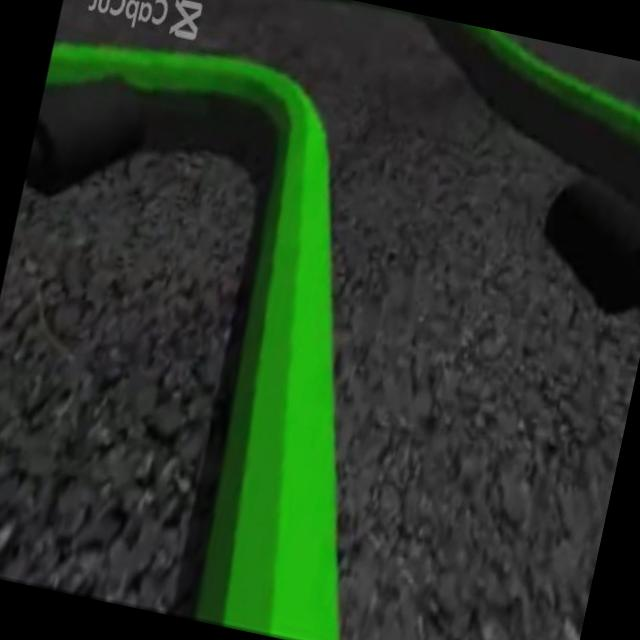gas: (166, 47, 461, 640), (144, 41, 356, 180)
